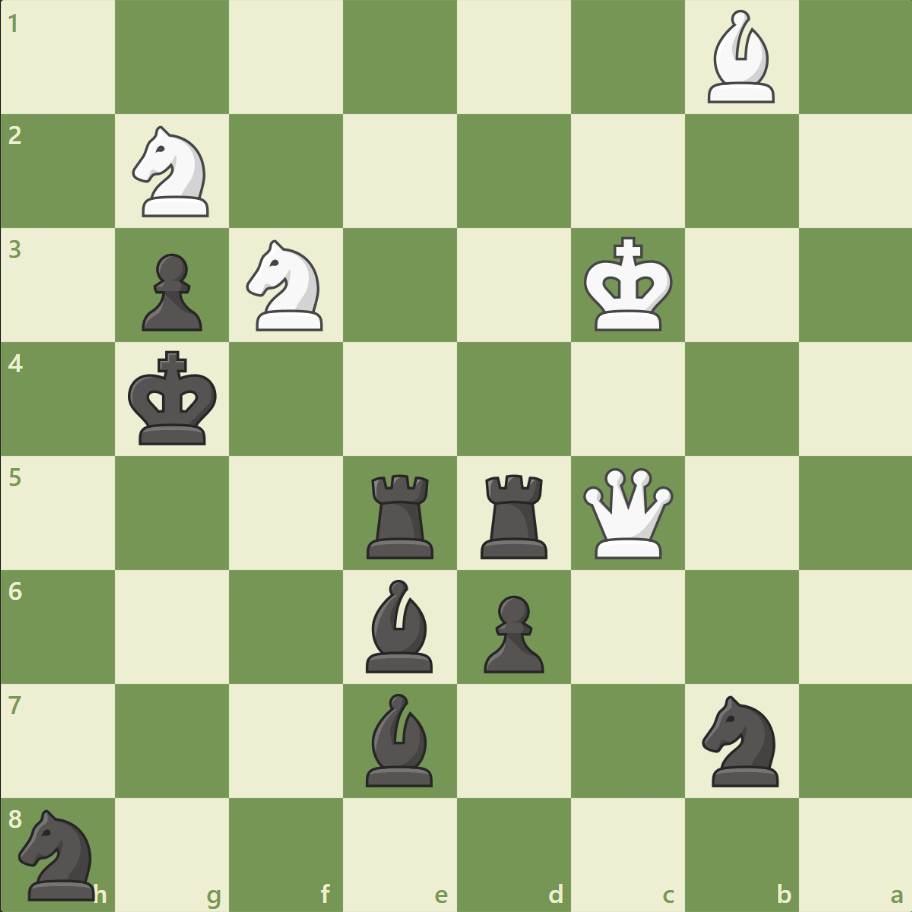B: (698, 6, 782, 109)
K: (579, 231, 679, 339)
N: (124, 121, 222, 223), (238, 234, 335, 337)
Q: (578, 463, 677, 562)
b: (358, 687, 442, 790), (358, 574, 442, 676)
k: (124, 344, 224, 452)
n: (692, 688, 789, 791), (11, 802, 108, 904)
p: (474, 586, 549, 677), (133, 246, 208, 337)
r: (473, 466, 556, 563), (360, 466, 442, 563)
